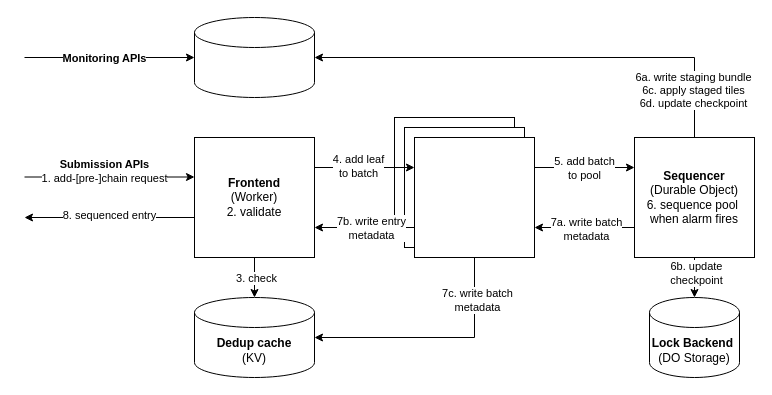
Image size: 772x395. Some labels were removed from this diagram. Each missing label, with the box of its shape:
Batcher (Durable Object): (414, 136, 534, 258)
Object Backend (R2): (194, 16, 314, 98)
